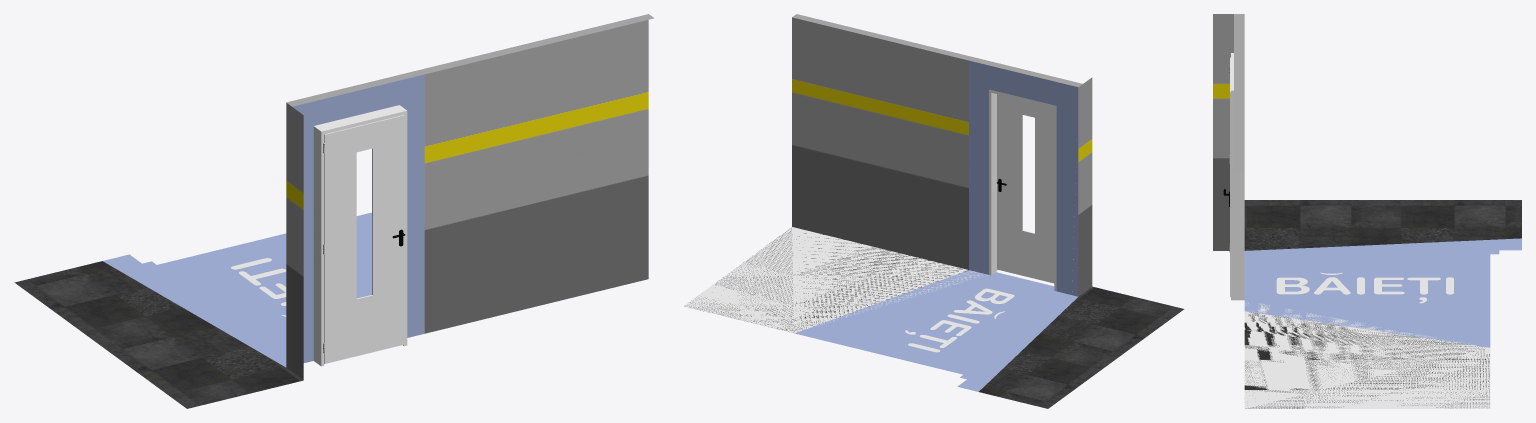
The picture shows the model from 3 angles, left to right: view 1: azimuth 30°, elevation 25°; view 2: azimuth 150°, elevation 25°; view 3: azimuth 270°, elevation 25°; orthographic projection. The views are drawn at different scales.
Visible parts, largest first — view 1: SketchUp.001, SketchUp, SketchUp.015, SketchUp.002; view 2: SketchUp.001, SketchUp, SketchUp.003, SketchUp.002, SketchUp.015; view 3: SketchUp, SketchUp.003, SketchUp.002, SketchUp.001, SketchUp.015, SketchUp.012, SketchUp.013, SketchUp.005.
Part boxes in pixels (x1,y1,x2,y2): SketchUp.001: (286, 14, 653, 379); SketchUp: (103, 74, 424, 367); SketchUp.015: (313, 105, 407, 366); SketchUp.002: (14, 261, 303, 408); SketchUp.001: (792, 14, 1092, 296); SketchUp: (794, 60, 1078, 391); SketchUp.003: (683, 227, 968, 333); SketchUp.002: (979, 286, 1184, 408); SketchUp.015: (989, 89, 1056, 291); SketchUp: (1244, 238, 1521, 347); SketchUp.003: (1244, 311, 1490, 408); SketchUp.002: (1244, 200, 1521, 250); SketchUp.001: (1213, 14, 1244, 250); SketchUp.015: (1230, 53, 1244, 300); SketchUp.012: (1276, 277, 1309, 294); SketchUp.013: (1374, 277, 1404, 294); SketchUp.005: (1314, 277, 1350, 294).
Size of the model in its own units: 4.81 by 2.54 by 3.
6 materials, 2 textured.
